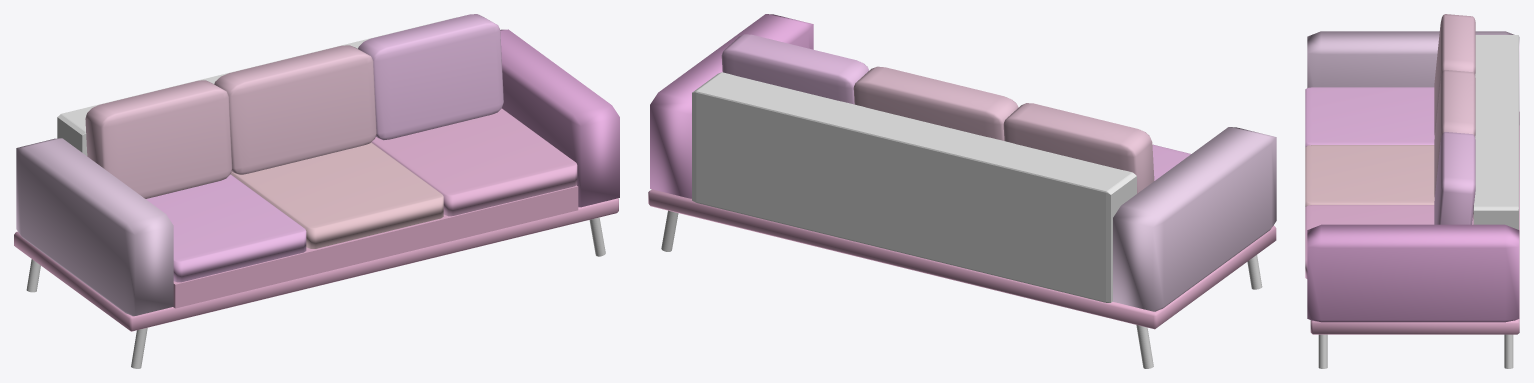
The model's file is sofa2AR.glb.
3 renders of one model, left to right at view 1: azimuth 30°, elevation 25°; view 2: azimuth 150°, elevation 25°; view 3: azimuth 270°, elevation 25°, orthographic. The views are drawn at different scales.
Visible parts, largest first — view 1: Cube.003, Cube, Cube.009, Cube.008, Cube.007, Cube.005, Cube.006, Cube.001, Cube.002, Cube.004, Cylinder; view 2: Cube.004, Cube.003, Cube, Cube.001, Cube.009, Cube.007, Cube.008, Cylinder, Cube.002; view 3: Cube.001, Cube.004, Cube.005, Cube.003, Cube.002, Cube.008, Cube, Cube.006, Cube.009, Cube.007, Cylinder.001.
Part boxes in pixels (x1,y1,x2,y2): Cube.003: (16,138,173,316); Cube: (14,185,618,331); Cube.009: (214,45,376,174); Cube.008: (358,14,503,140); Cube.007: (85,80,232,198); Cube.005: (231,142,443,248); Cube.006: (371,108,577,216); Cube.001: (500,29,619,207); Cube.002: (146,174,306,282); Cube.004: (57,17,456,155); Cylinder: (26,259,147,368); Cube.004: (692,72,1136,302); Cube.003: (1113,127,1276,311); Cube: (648,189,1276,329); Cube.001: (650,14,813,198); Cube.009: (853,66,1018,140); Cube.007: (1003,103,1154,193); Cube.008: (721,34,869,104); Cylinder: (1136,255,1262,368); Cube.002: (1152,144,1190,180); Cube.001: (1307,224,1519,322); Cube.004: (1473,35,1518,229); Cube.005: (1305,145,1473,218); Cube.003: (1307,31,1519,124); Cube.002: (1305,87,1434,146); Cube.008: (1434,132,1475,224); Cube: (1310,112,1519,334); Cube.006: (1305,205,1473,278); Cube.009: (1434,70,1475,197); Cube.007: (1434,14,1475,135); Cylinder.001: (1318,334,1513,368).
Bounding box in the file's own units: 2 × 0.7519 × 0.8519.
